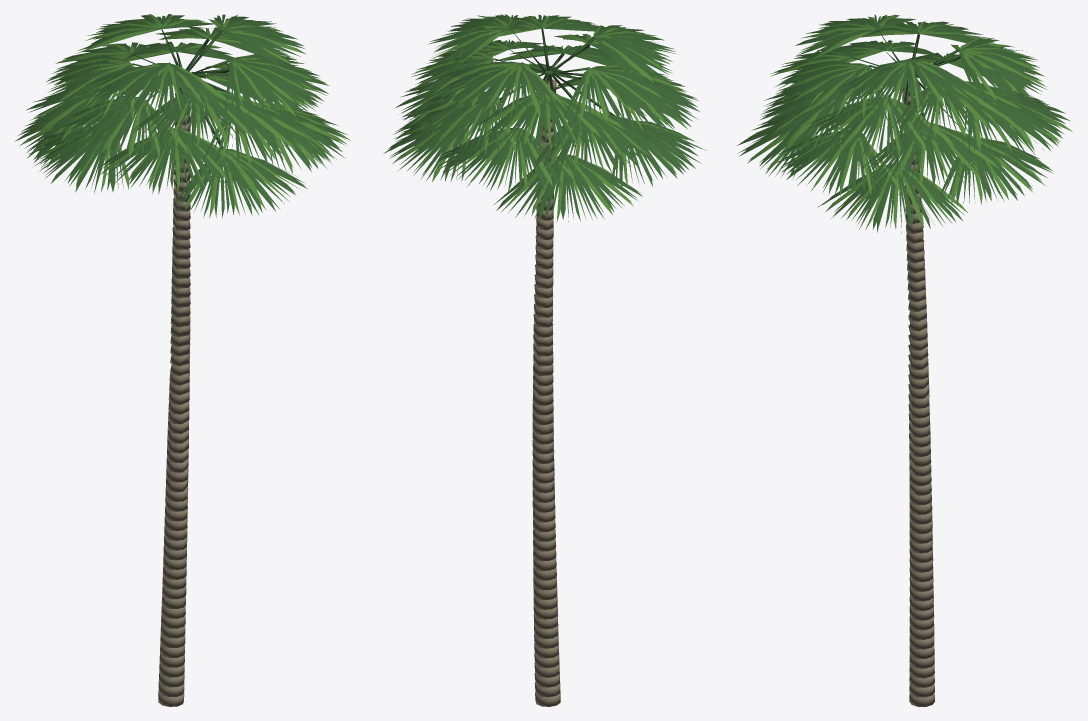
Rendered from Production_Washingtonia_1-mobile.glb.
3 views of the same model, side by side, from view 1: azimuth 30°, elevation 25°; view 2: azimuth 150°, elevation 25°; view 3: azimuth 270°, elevation 25° (orthographic).
Parts seen in each view (by area): view 1: Production_Washingtonia_1_Landscape_LeafDark, Production_Washingtonia_1_Landscape_LeafSun, Production_Washingtonia_1_Landscape_PalmTrunk; view 2: Production_Washingtonia_1_Landscape_LeafDark, Production_Washingtonia_1_Landscape_LeafSun, Production_Washingtonia_1_Landscape_PalmTrunk; view 3: Production_Washingtonia_1_Landscape_LeafDark, Production_Washingtonia_1_Landscape_LeafSun, Production_Washingtonia_1_Landscape_PalmTrunk.
Part boxes in pixels (bbox=[...]): Production_Washingtonia_1_Landscape_LeafDark: bbox=[15, 14, 347, 218]; Production_Washingtonia_1_Landscape_LeafSun: bbox=[19, 14, 350, 218]; Production_Washingtonia_1_Landscape_PalmTrunk: bbox=[158, 81, 190, 706]; Production_Washingtonia_1_Landscape_LeafDark: bbox=[383, 14, 706, 222]; Production_Washingtonia_1_Landscape_LeafSun: bbox=[389, 14, 694, 222]; Production_Washingtonia_1_Landscape_PalmTrunk: bbox=[532, 79, 560, 706]; Production_Washingtonia_1_Landscape_LeafDark: bbox=[737, 14, 1070, 233]; Production_Washingtonia_1_Landscape_LeafSun: bbox=[745, 14, 1072, 230]; Production_Washingtonia_1_Landscape_PalmTrunk: bbox=[902, 85, 934, 706].
Size of the model in its own units: 4.95 by 10.62 by 4.89.
